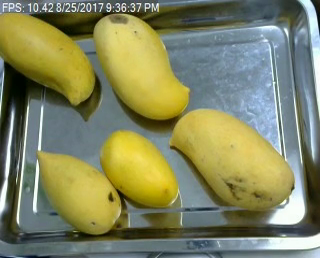Mango: (170, 102, 298, 211), (0, 2, 97, 112), (90, 13, 191, 118), (26, 142, 124, 240), (93, 129, 185, 205)
